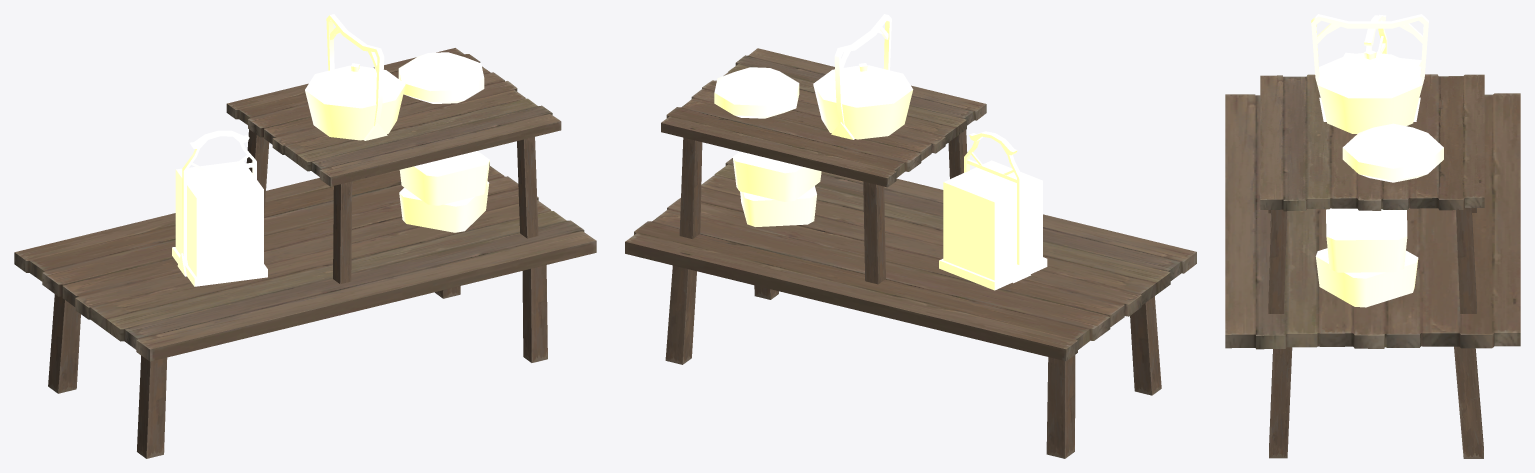
File: Homeworld_Exterior_Ly_Decoration_Varia_04_Lod0.fbx
3 renders of one model, left to right at view 1: azimuth 30°, elevation 25°; view 2: azimuth 150°, elevation 25°; view 3: azimuth 270°, elevation 25°, orthographic. The views are drawn at different scales.
Parts seen in each view (by area): view 1: Homeworld_Exterior_Ly_Decoration_Varia_04_Lod0; view 2: Homeworld_Exterior_Ly_Decoration_Varia_04_Lod0; view 3: Homeworld_Exterior_Ly_Decoration_Varia_04_Lod0.
Boxes of the visible parts, x1,y1,x2,y2 form: Homeworld_Exterior_Ly_Decoration_Varia_04_Lod0: (14,14,596,458); Homeworld_Exterior_Ly_Decoration_Varia_04_Lod0: (625,14,1196,458); Homeworld_Exterior_Ly_Decoration_Varia_04_Lod0: (1225,14,1520,458).
Size of what is drawn, in the model's own units: 2.64 by 1.85 by 1.35.
